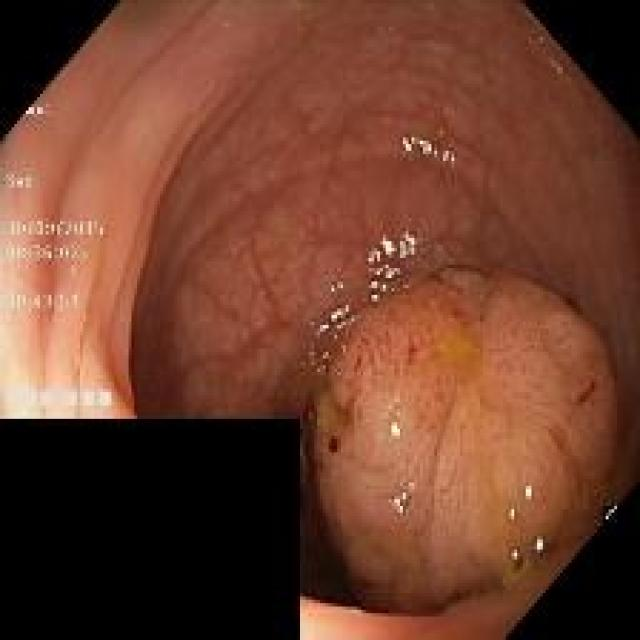Polyps: (304, 268, 619, 614)
